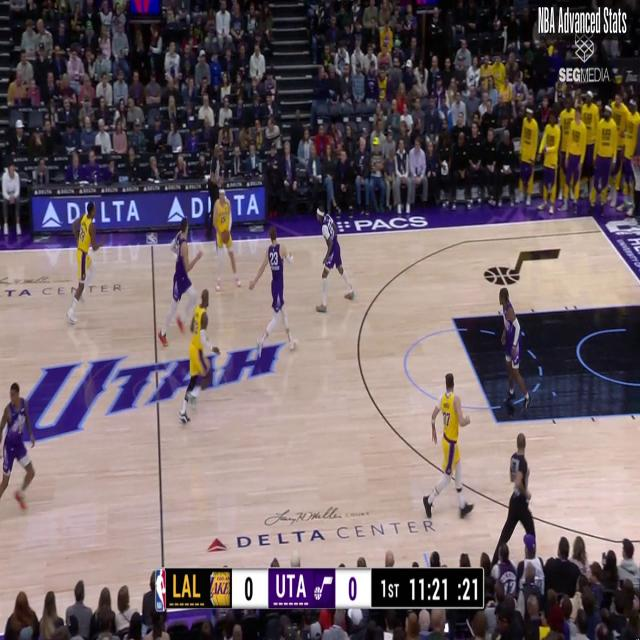ball: (221, 224, 231, 246)
judge: (492, 437, 534, 560), (206, 149, 224, 240)
player: (424, 372, 474, 520), (250, 228, 297, 360), (158, 220, 203, 349), (179, 286, 221, 422), (308, 208, 354, 316), (1, 382, 36, 511), (68, 200, 104, 324), (498, 286, 528, 410), (212, 189, 240, 292)
